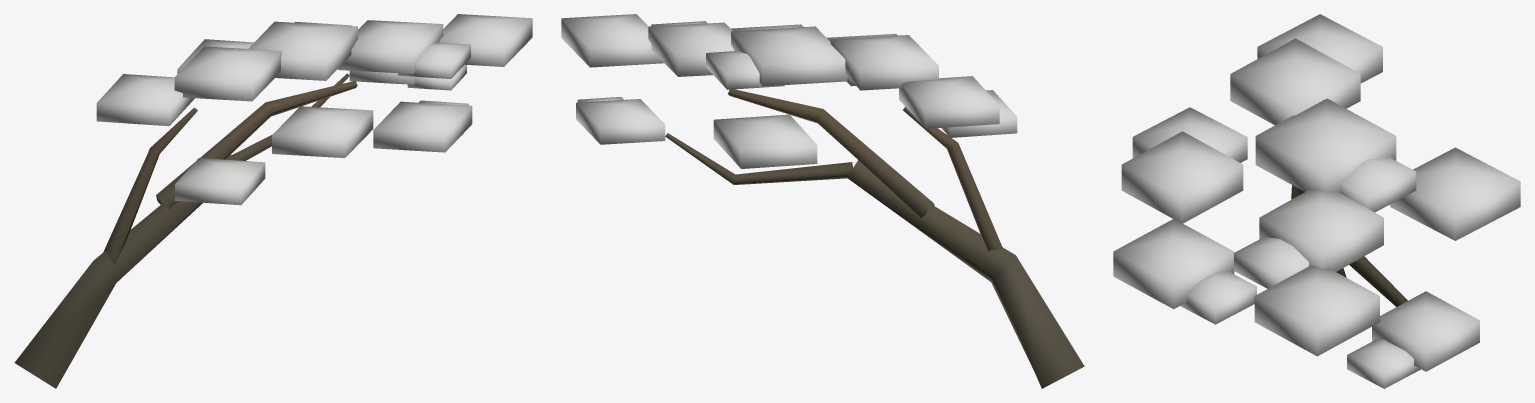
3 views of the same model, side by side, from view 1: azimuth 30°, elevation 25°; view 2: azimuth 150°, elevation 25°; view 3: azimuth 270°, elevation 25° (orthographic). The views are drawn at different scales.
Parts seen in each view (by area): view 1: crown, trunk; view 2: crown, trunk; view 3: crown, trunk.
Part boxes in pixels (<box>): crown: <box>96,14,532,205</box>; trunk: <box>14,73,357,388</box>; crown: <box>561,14,1017,168</box>; trunk: <box>665,89,1084,388</box>; crown: <box>1113,14,1520,388</box>; trunk: <box>1291,185,1407,306</box>.
Bounding box in the file's own units: 9.35 × 4.89 × 4.68.
